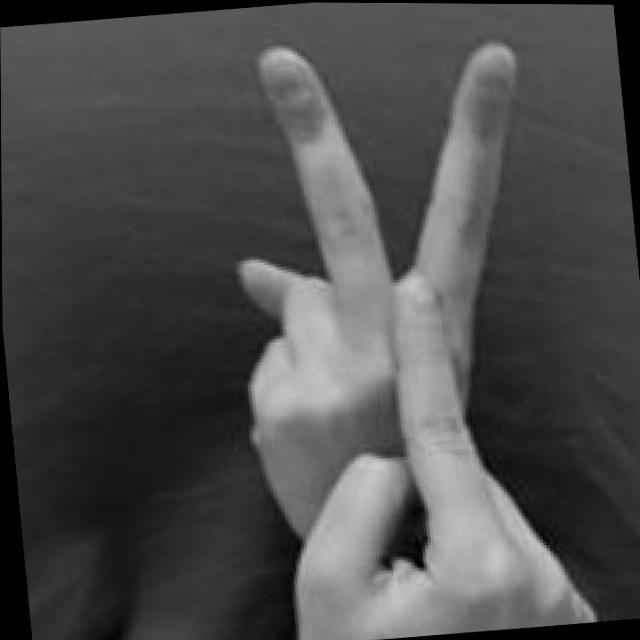Y: (206, 22, 597, 640)
